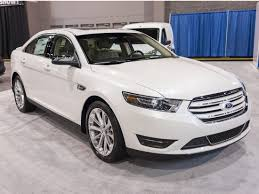Ford: (8, 28, 251, 163)
